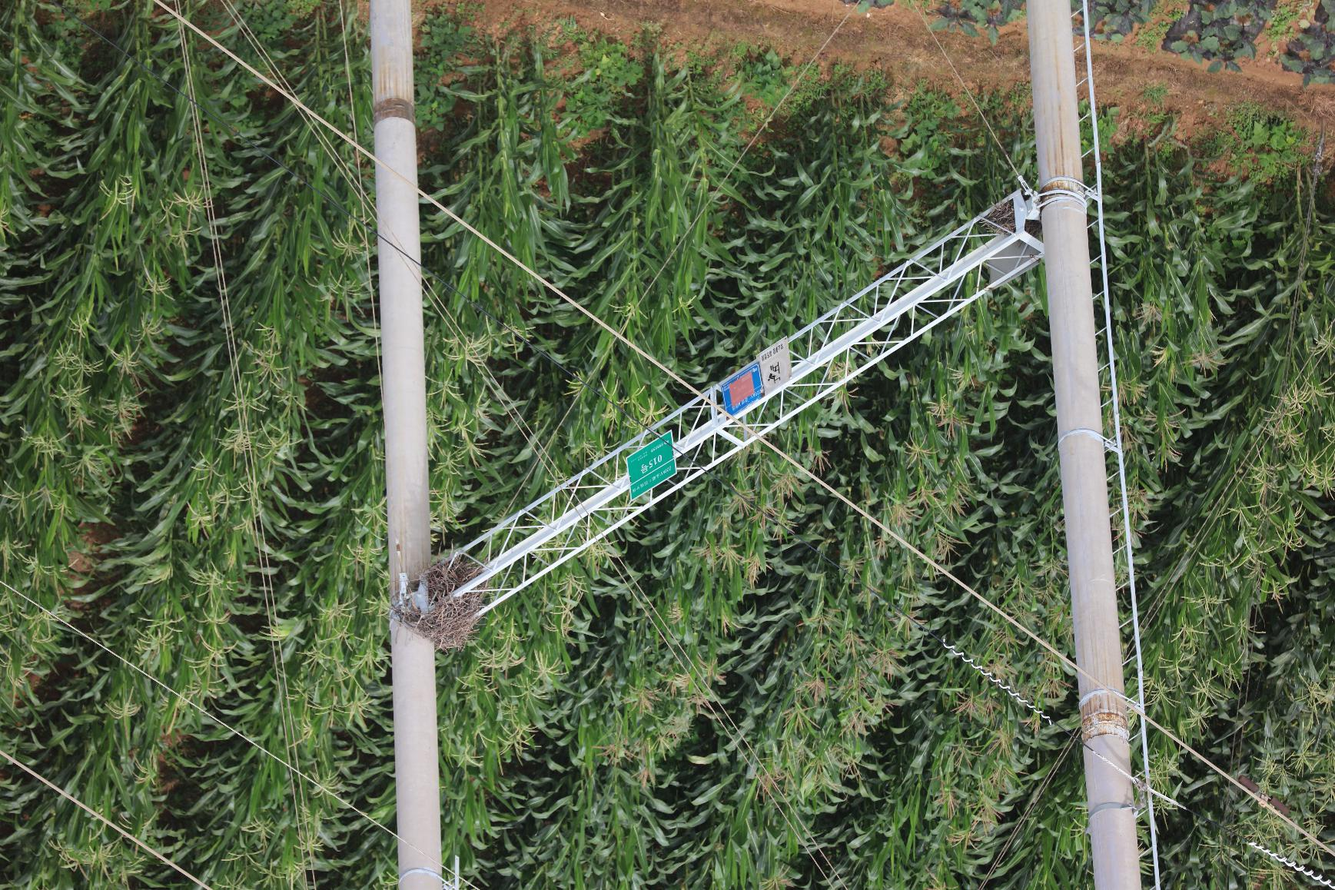damper: (1234, 772, 1293, 822)
nest: (397, 553, 490, 654)
